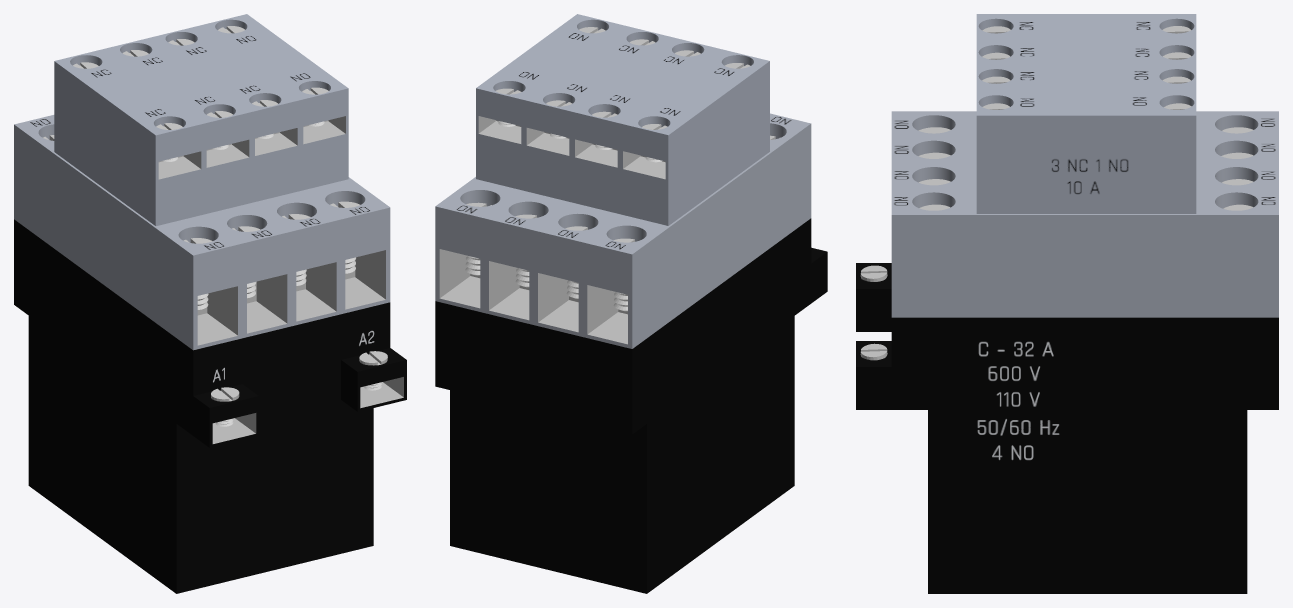
Rendered from Contactor4.fbx.
The picture shows the model from 3 angles, left to right: view 1: azimuth 30°, elevation 25°; view 2: azimuth 150°, elevation 25°; view 3: azimuth 270°, elevation 25°; orthographic projection. The views are drawn at different scales.
Visible parts, largest first — view 1: Contactor.001; view 2: Contactor.001; view 3: Contactor.001.
Boxes of the visible parts, <box> form: Contactor.001: <box>14,14,406,593</box>; Contactor.001: <box>435,14,827,593</box>; Contactor.001: <box>856,14,1278,593</box>.
Bounding box in the file's own units: 8.89 × 19.01 × 15.27.
